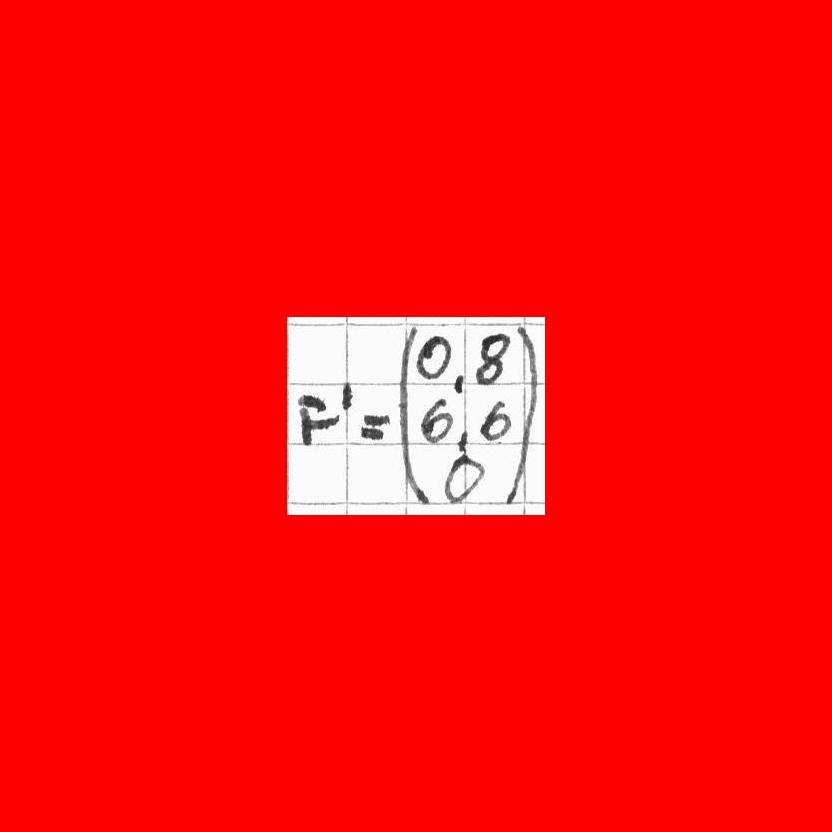Char: (511, 326, 541, 484), (393, 343, 415, 472), (444, 438, 482, 508), (295, 381, 333, 446), (473, 331, 509, 387), (416, 334, 452, 382), (419, 396, 454, 443), (480, 398, 511, 443), (359, 404, 390, 447), (339, 380, 357, 412), (452, 372, 464, 399), (456, 430, 469, 454)
